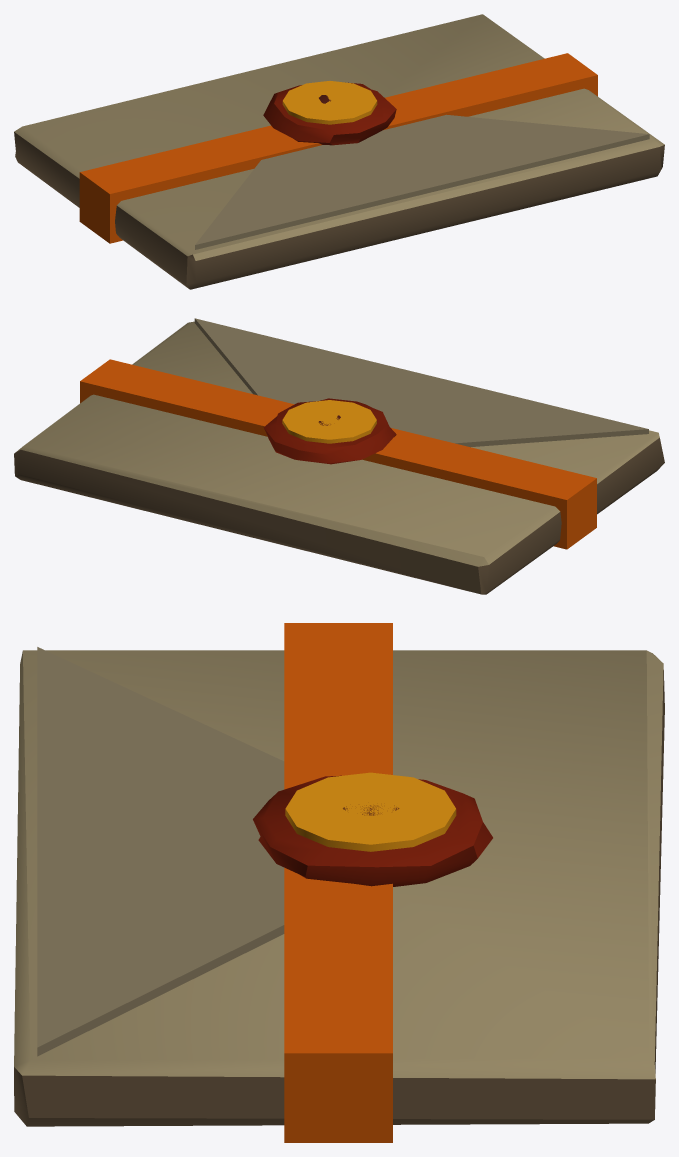
File: Zarf_Lonca.fbx
The picture shows the model from 3 angles, top to bottom: view 1: azimuth 30°, elevation 25°; view 2: azimuth 150°, elevation 25°; view 3: azimuth 270°, elevation 25°; orthographic projection. The views are drawn at different scales.
Parts seen in each view (by area): view 1: Zarf_Lonca; view 2: Zarf_Lonca; view 3: Zarf_Lonca.
Boxes of the visible parts, x1,y1,x2,y2 form: Zarf_Lonca: [14, 14, 664, 289]; Zarf_Lonca: [14, 318, 664, 594]; Zarf_Lonca: [14, 623, 664, 1142].
Bounding box in the file's own units: 0.206 × 0.0266 × 0.1317.
